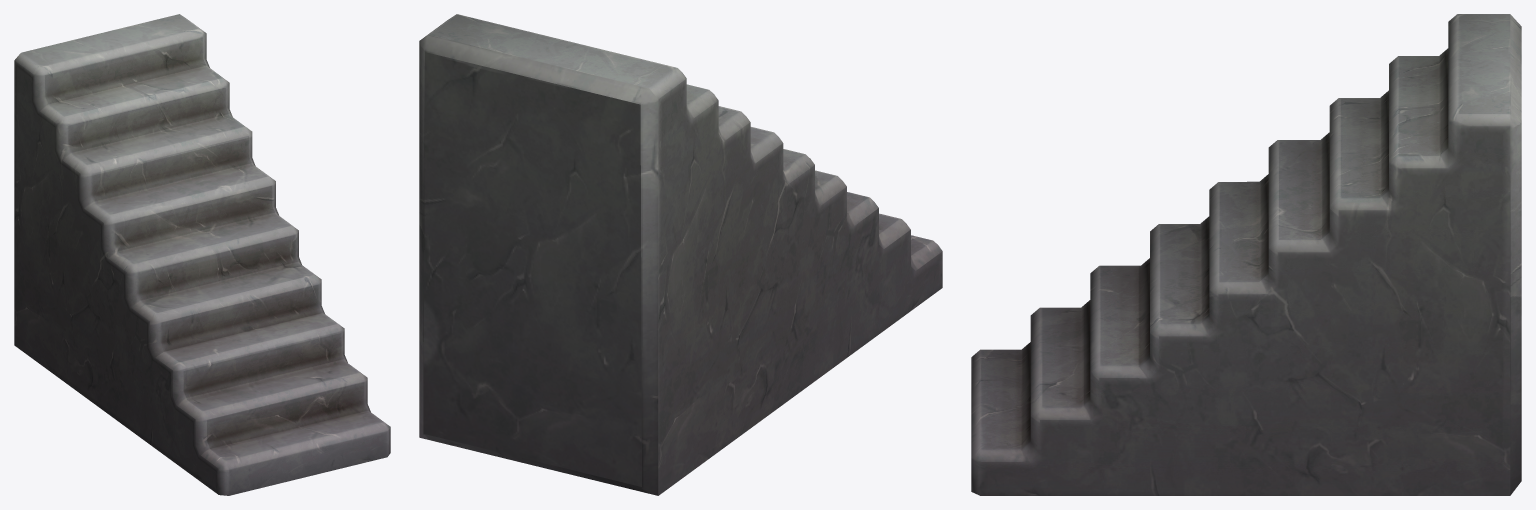
The model's file is DE_House_Mod_Part_49.fbx.
3 renders of one model, left to right at view 1: azimuth 30°, elevation 25°; view 2: azimuth 150°, elevation 25°; view 3: azimuth 270°, elevation 25°, orthographic. The views are drawn at different scales.
Parts seen in each view (by area): view 1: DE_House_Mod_Part_49; view 2: DE_House_Mod_Part_49; view 3: DE_House_Mod_Part_49.
Part boxes in pixels (bbox=[...]): DE_House_Mod_Part_49: bbox=[14, 14, 390, 495]; DE_House_Mod_Part_49: bbox=[419, 14, 942, 495]; DE_House_Mod_Part_49: bbox=[971, 14, 1521, 495].
Size of the model in its own units: 2 by 3.23 by 4.27.
